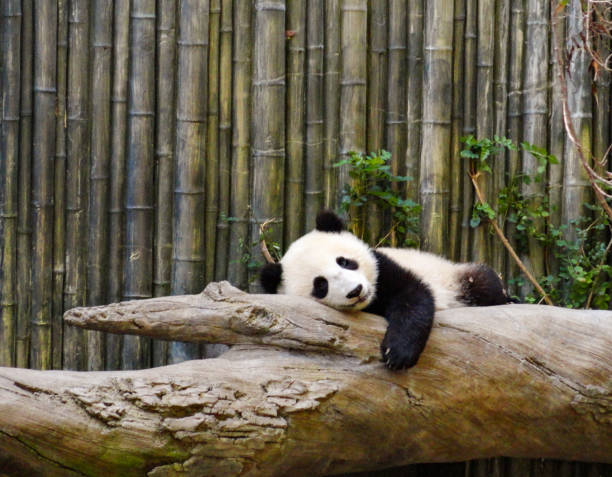panda: (245, 178, 403, 336)
